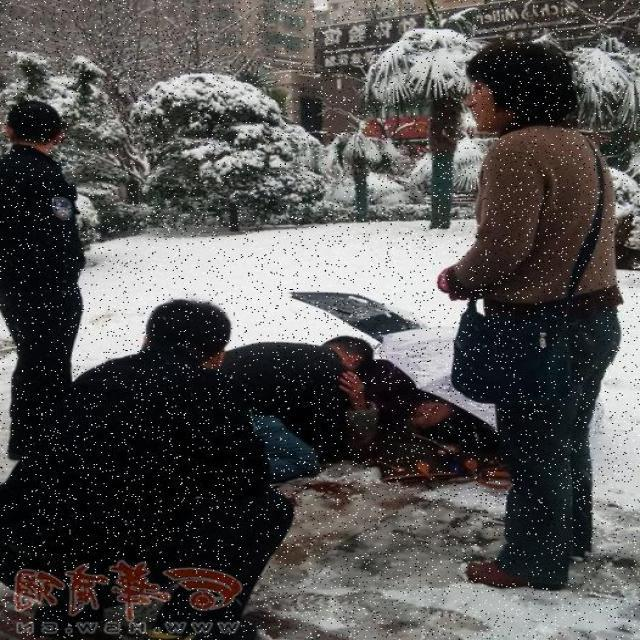fall: (282, 346, 463, 461)
